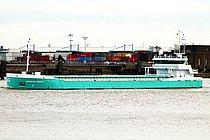Ship: (2, 31, 207, 95)
